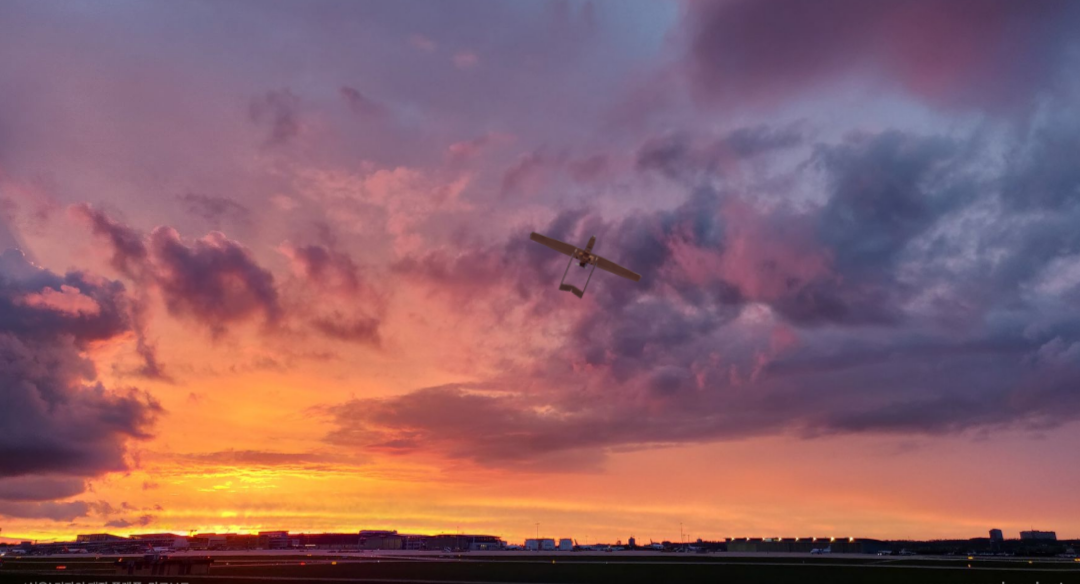military drone: (529, 231, 641, 298)
